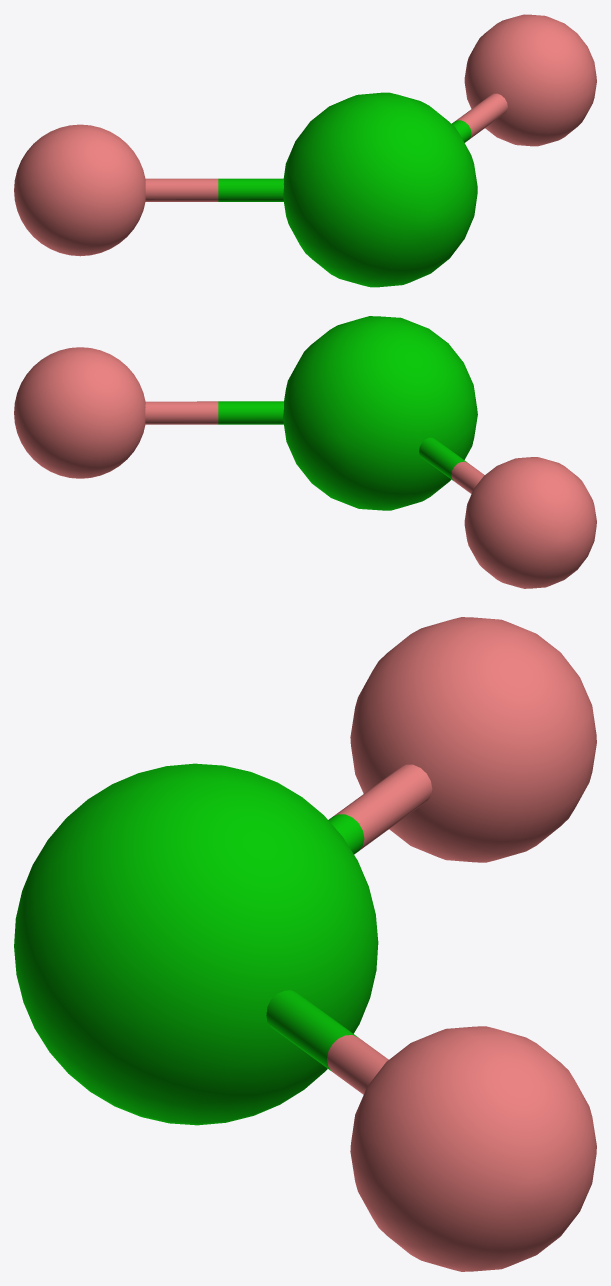
The model's file is CaF2.fbx.
The picture shows the model from 3 angles, top to bottom: view 1: azimuth 30°, elevation 25°; view 2: azimuth 150°, elevation 25°; view 3: azimuth 270°, elevation 25°; orthographic projection. The views are drawn at different scales.
Visible parts, largest first — view 1: CaF2; view 2: CaF2; view 3: CaF2.
Boxes of the visible parts, x1,y1,x2,y2 form: CaF2: [14, 14, 596, 287]; CaF2: [14, 316, 596, 588]; CaF2: [14, 617, 596, 1271].
Size of the model in its own units: 9.09 by 2.73 by 4.36.
